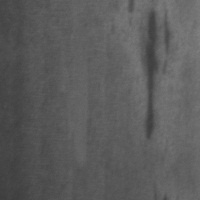inclusion: (136, 4, 175, 144)
